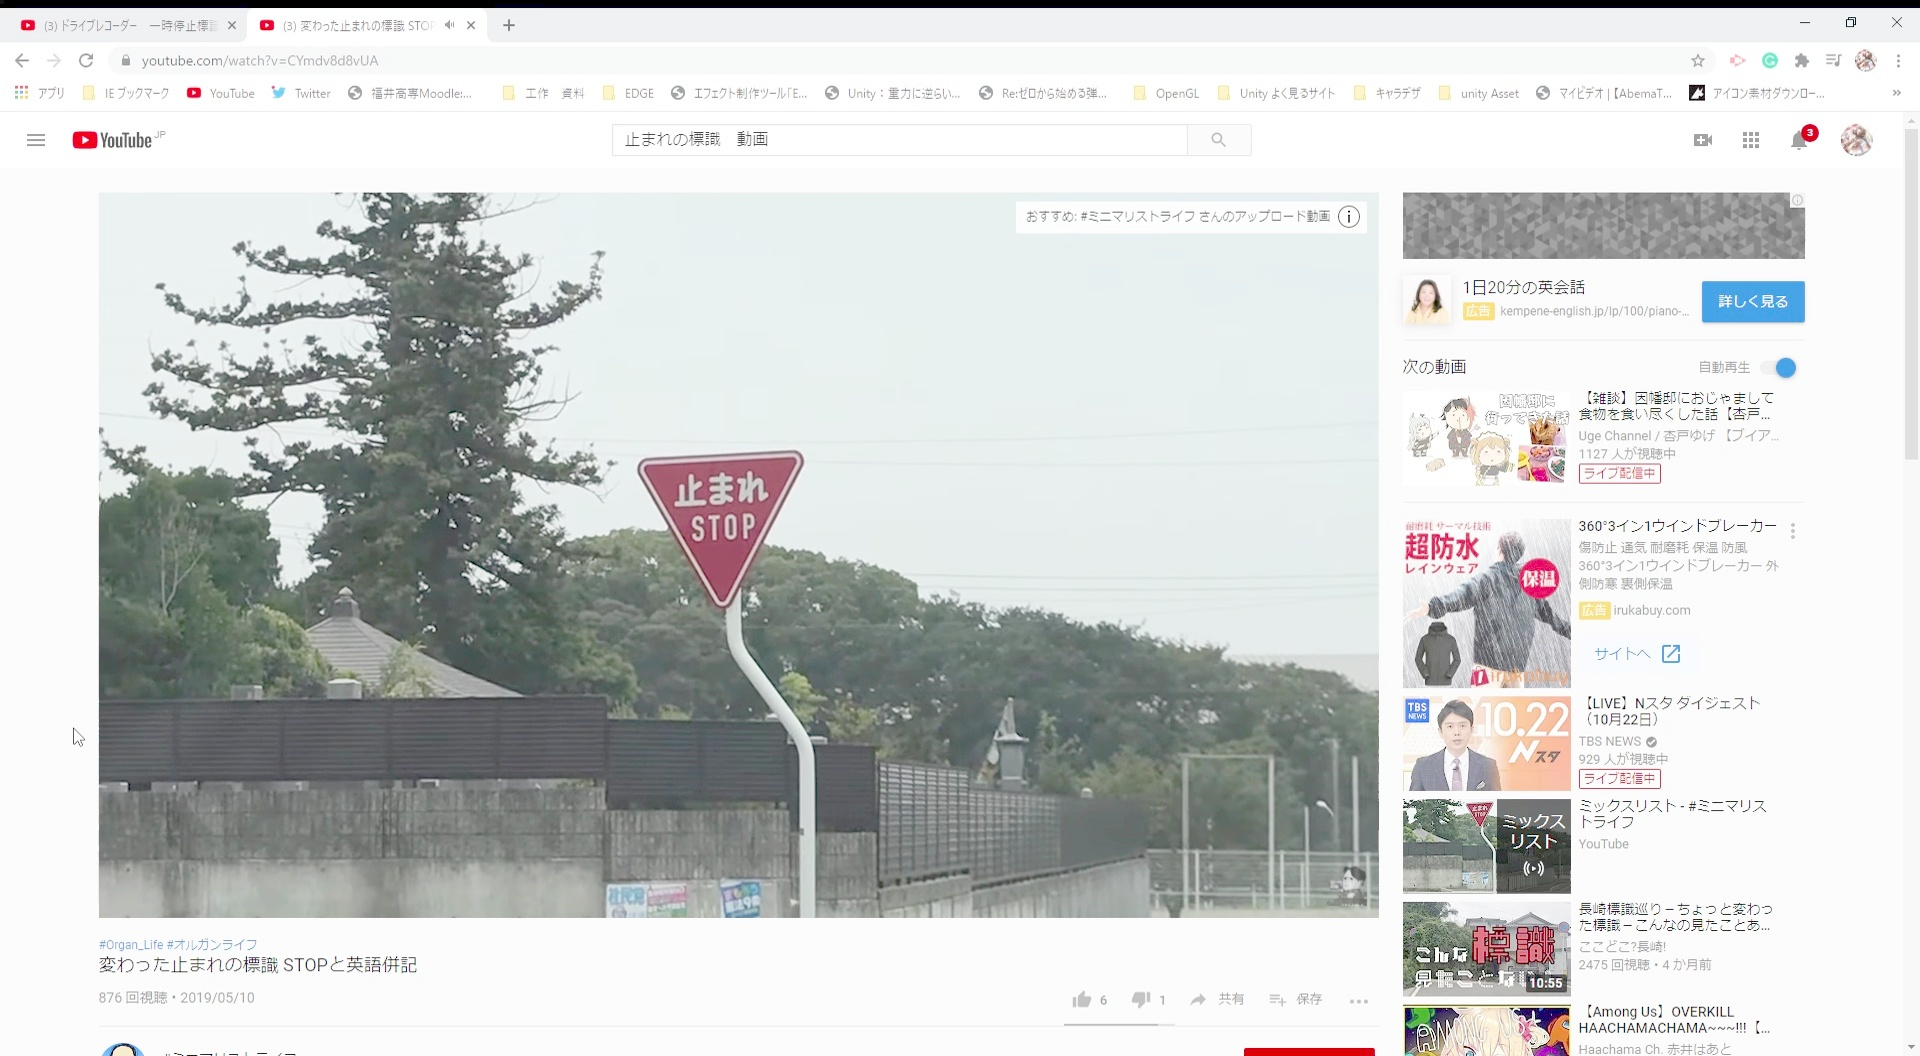Regulatory_sign_triangle: (630, 447, 837, 623)
